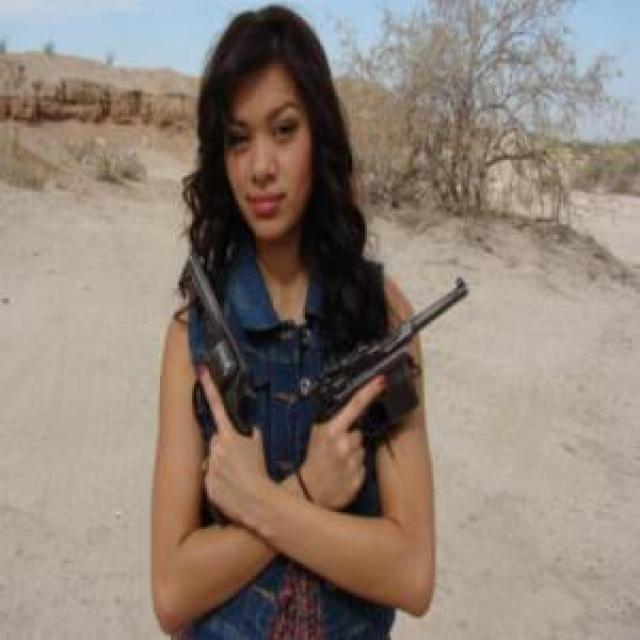pistol: (309, 277, 474, 448), (184, 250, 259, 528)
